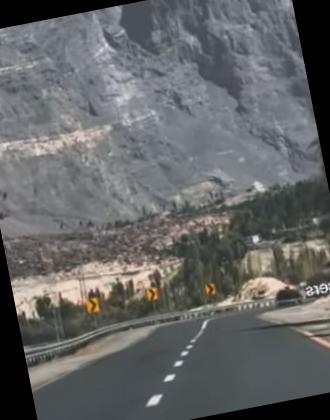left_turn: (84, 294, 103, 314), (145, 286, 158, 302)
sharp_turn: (25, 307, 283, 420)
